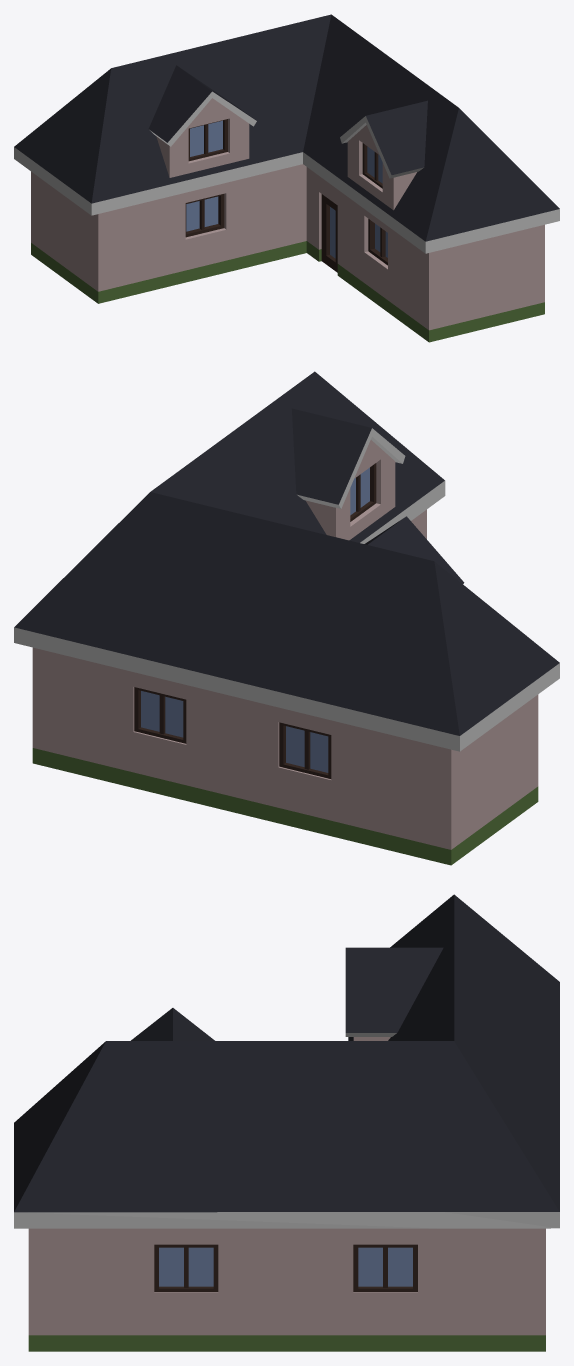
The model's file is FamilyHouse_07.fbx.
3 renders of one model, top to bottom at view 1: azimuth 30°, elevation 25°; view 2: azimuth 150°, elevation 25°; view 3: azimuth 270°, elevation 25°, orthographic. The views are drawn at different scales.
Visible parts, largest first — view 1: FamilyHouse_07; view 2: FamilyHouse_07; view 3: FamilyHouse_07.
Part boxes in pixels (left/top/right/bottom): FamilyHouse_07: left=14, top=14, right=559, bottom=342; FamilyHouse_07: left=14, top=371, right=559, bottom=865; FamilyHouse_07: left=14, top=894, right=559, bottom=1351.
Bounding box in the file's own units: 12.09 × 6.67 × 12.12.
